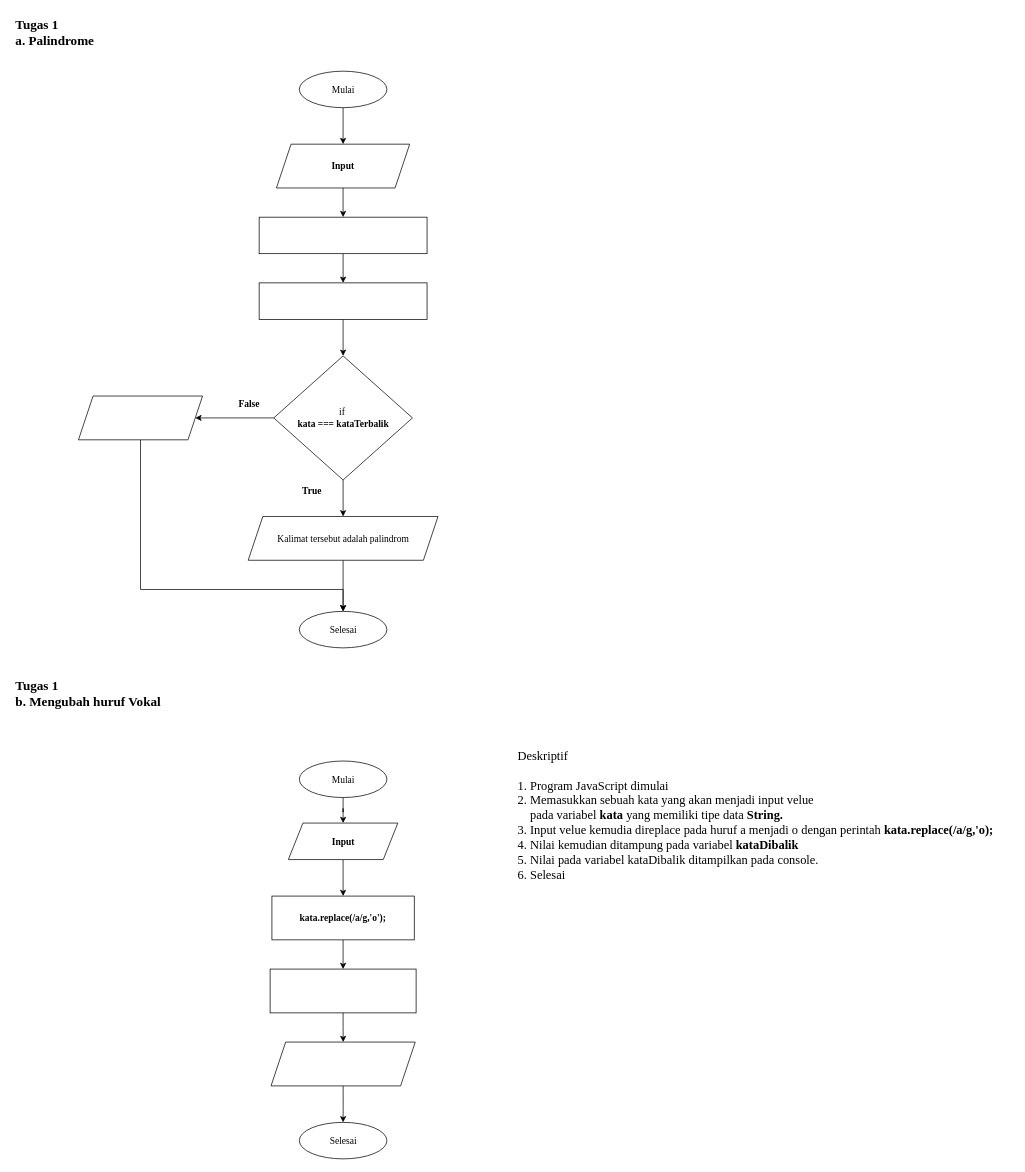
Some shapes in this 1025 by 1172 pixel diagram are drawn without their labels. Each missing label, with the centre of its shape:
"i = kata.length -1" belongs at pixel 342 300.
"Kalimat tersebut bukan palindrom" belongs at pixel 140 417.
"kataTerbalik += kata[i]" belongs at pixel 342 235.
"tampilkan kataDiubah" belongs at pixel 342 990.
"vokal berubah" belongs at pixel 342 1063.
